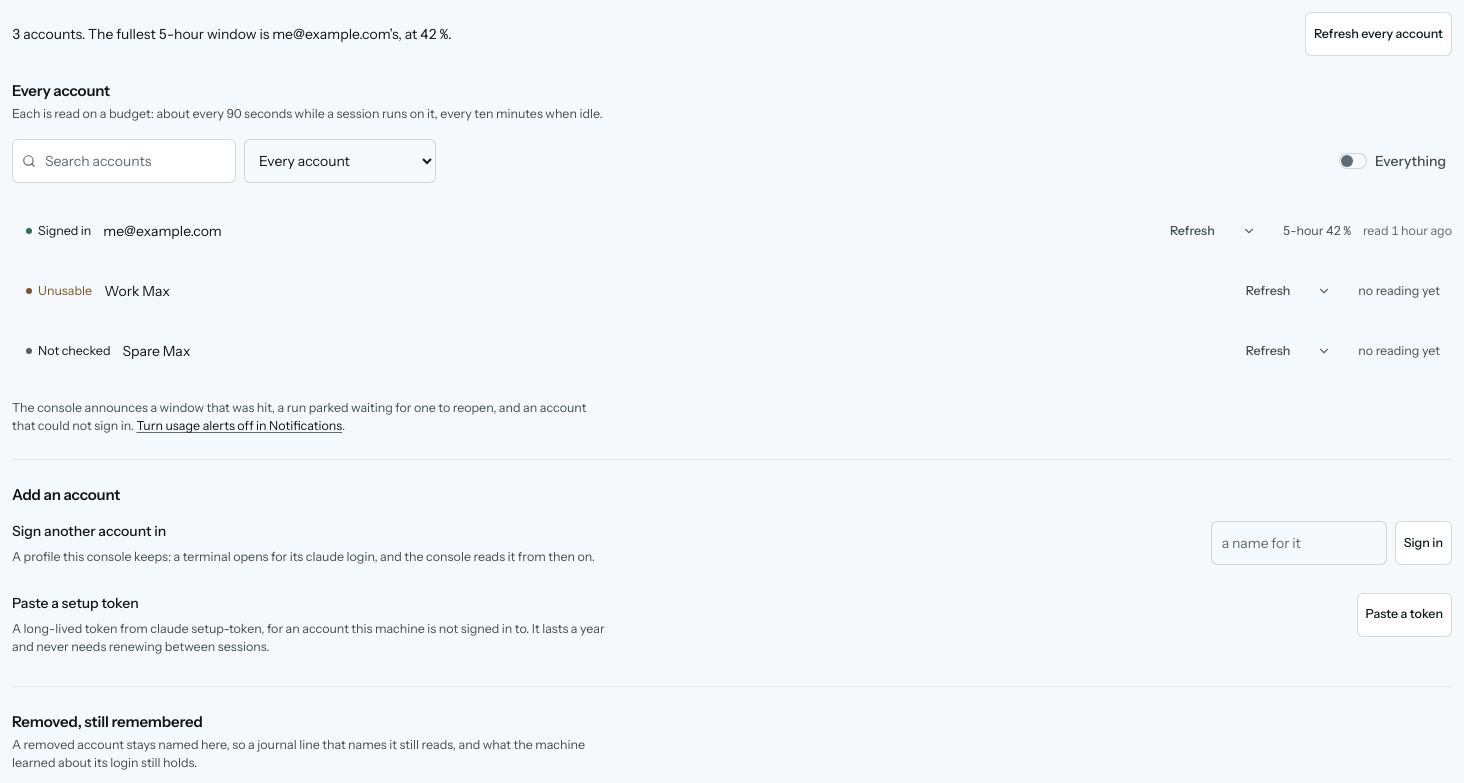
it: each account’s standing, as its row says it › says when a cooling account is a candidate again — on the breaker’s word, the rank’s and the wall’s
This screenshot has width=1464, height=783.
Click the button named "Show " at x=1324, y=351, box [1302, 329, 1346, 373]
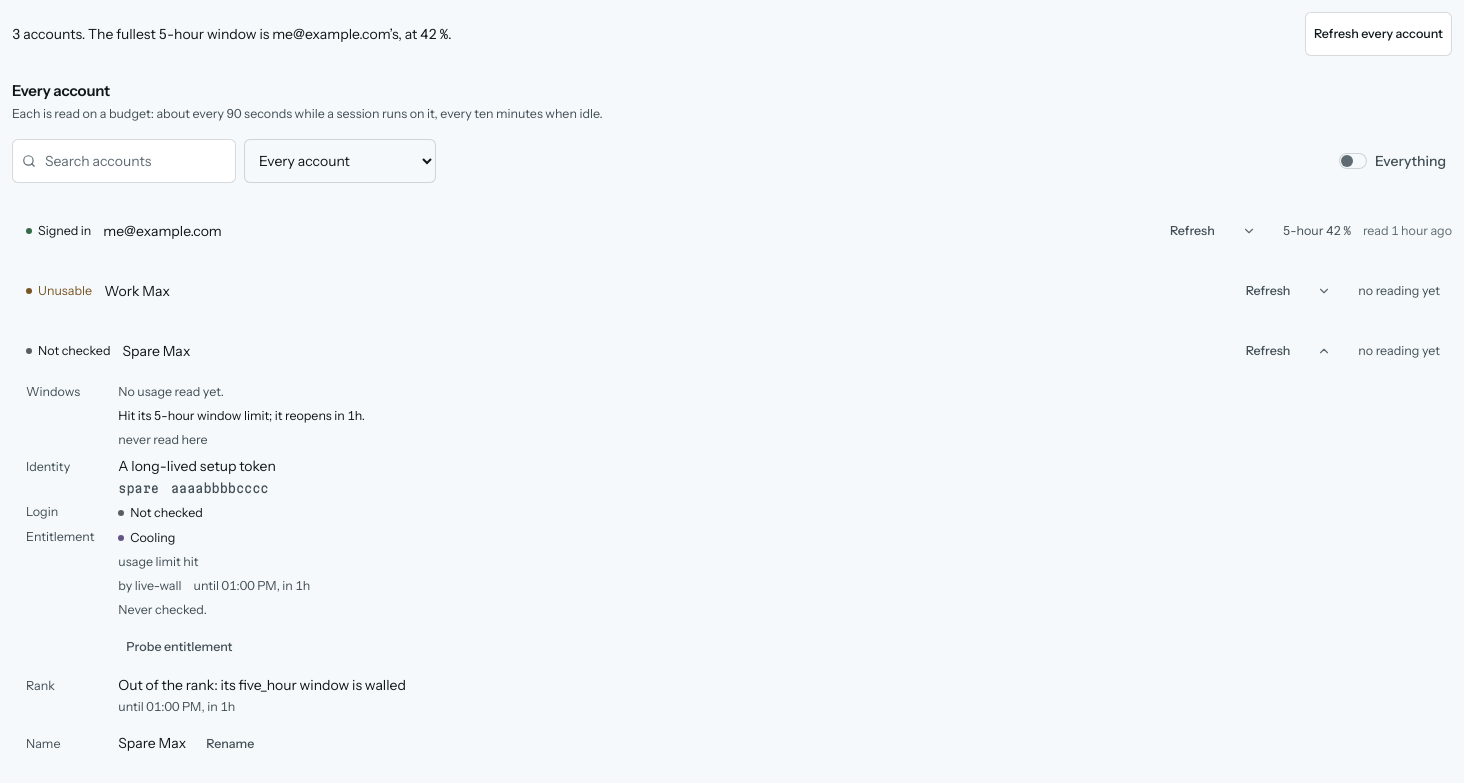
Expected: the text with test id "wall" reads "Hit its 5-hour window limit; it reopens in 1h.", [118, 408, 365, 423]
